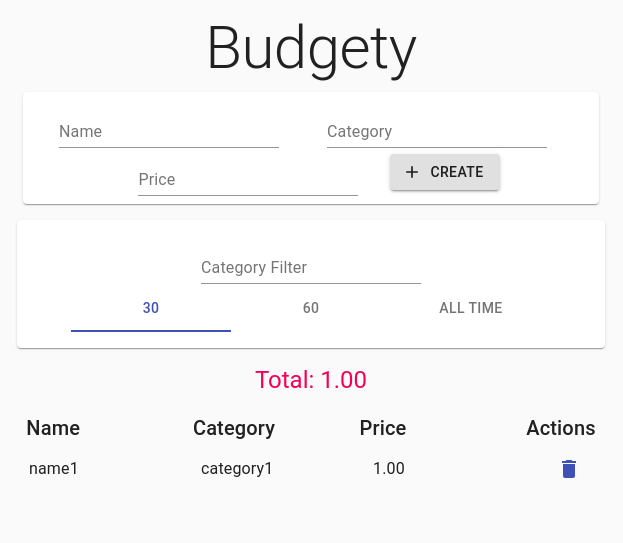
Test: GraphQL Mocks › adds an item from the item list
Expected: the text "name1" is shown, x1=29 y1=459 x2=79 y2=478
Type "newItem" into the field labelled "Name" at (169, 132), box x1=59 y1=116 x2=279 y2=148
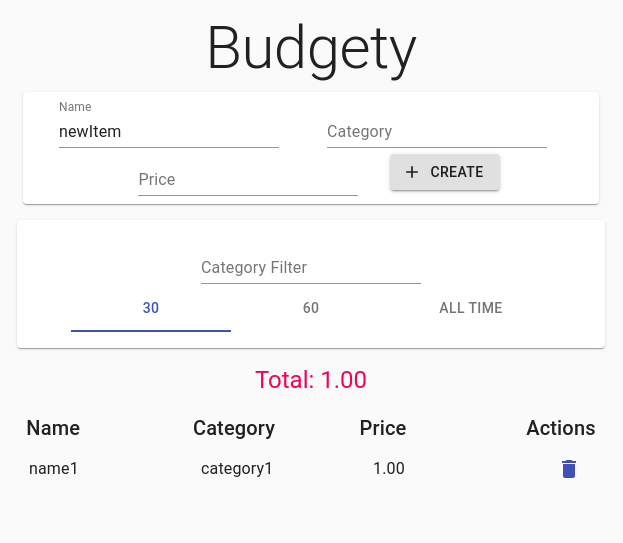
Type "newCategory" into the field labelled "Category" at (437, 132), box x1=327 y1=116 x2=547 y2=148
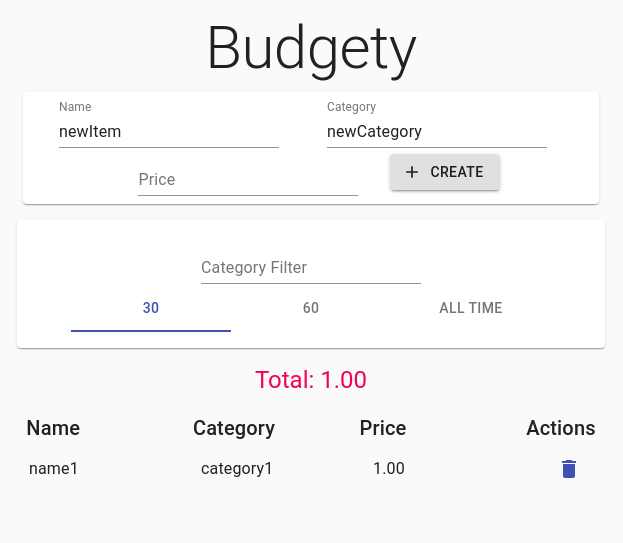
Type "3.50" into the number field labelled "Price" at (248, 180), box x1=138 y1=164 x2=358 y2=196
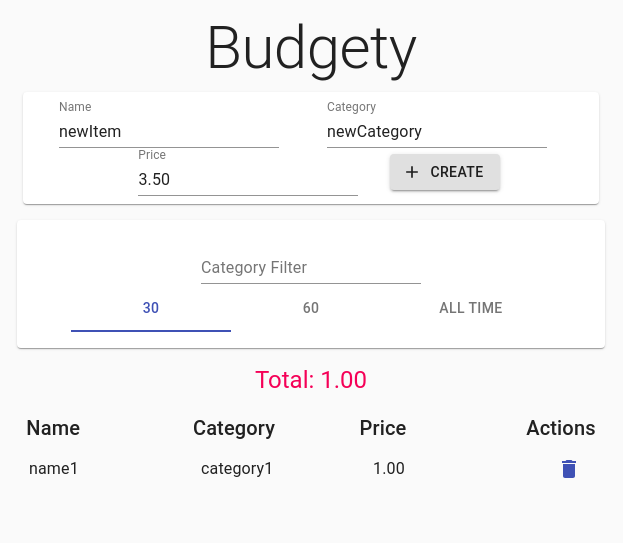
Click the button titled "Add Item" at (445, 172), box x1=390 y1=154 x2=500 y2=190
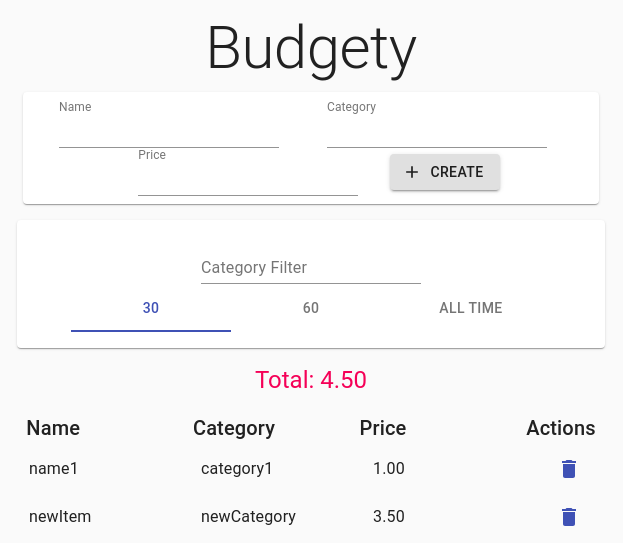
Now the text "newItem" is shown, box x1=29 y1=507 x2=92 y2=526
Now the text "newCategory" is shown, box x1=201 y1=507 x2=296 y2=526
Now the text "3.50" is shown, box x1=373 y1=507 x2=405 y2=526
